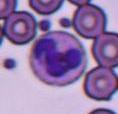N: (30, 31, 86, 86)
